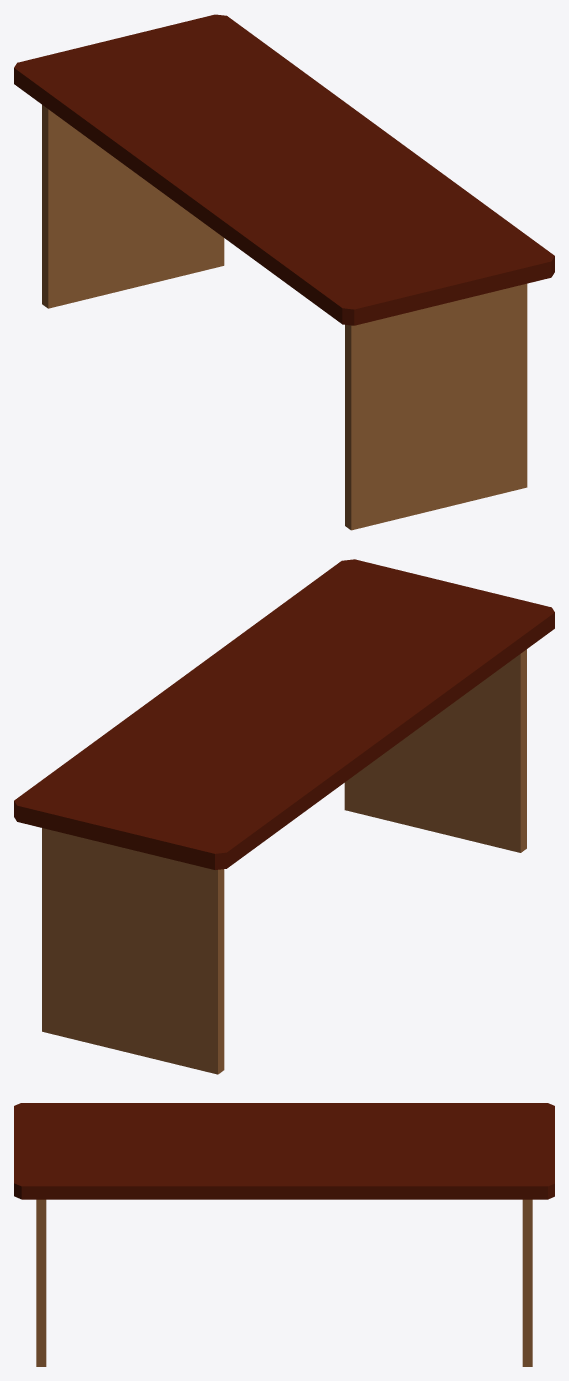
Rendered from mesa.fbx.
3 renders of one model, top to bottom at view 1: azimuth 30°, elevation 25°; view 2: azimuth 150°, elevation 25°; view 3: azimuth 270°, elevation 25°, orthographic. The views are drawn at different scales.
Parts seen in each view (by area): view 1: Mesa; view 2: Mesa; view 3: Mesa.
Part boxes in pixels (x1,y1,x2,y2): Mesa: (14,14,554,530); Mesa: (14,559,554,1074); Mesa: (14,1103,554,1366).
Size of the model in its own units: 200 by 210 by 548.
